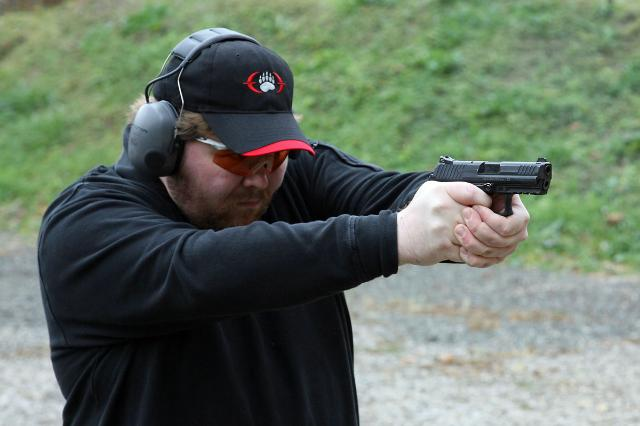handgun: (423, 154, 559, 268)
